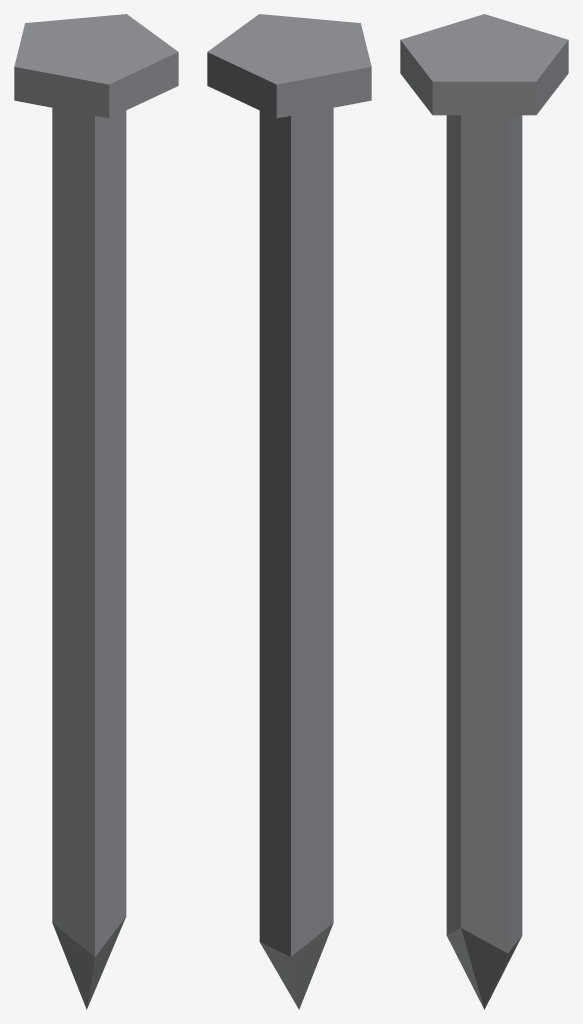
The model's file is SM_Item_Nail_07.fbx.
The picture shows the model from 3 angles, left to right: view 1: azimuth 30°, elevation 25°; view 2: azimuth 150°, elevation 25°; view 3: azimuth 270°, elevation 25°; orthographic projection.
Parts seen in each view (by area): view 1: SM_Item_Nail_07; view 2: SM_Item_Nail_07; view 3: SM_Item_Nail_07.
Boxes of the visible parts, x1,y1,x2,y2 form: SM_Item_Nail_07: [14, 14, 178, 1009]; SM_Item_Nail_07: [207, 14, 371, 1009]; SM_Item_Nail_07: [400, 14, 568, 1009].
Bounding box in the file's own units: 3.52 × 23.32 × 3.7.
